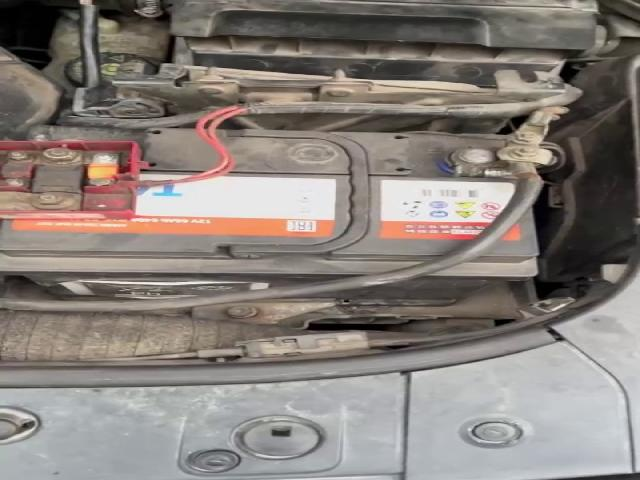accumulator: (0, 124, 541, 306)
